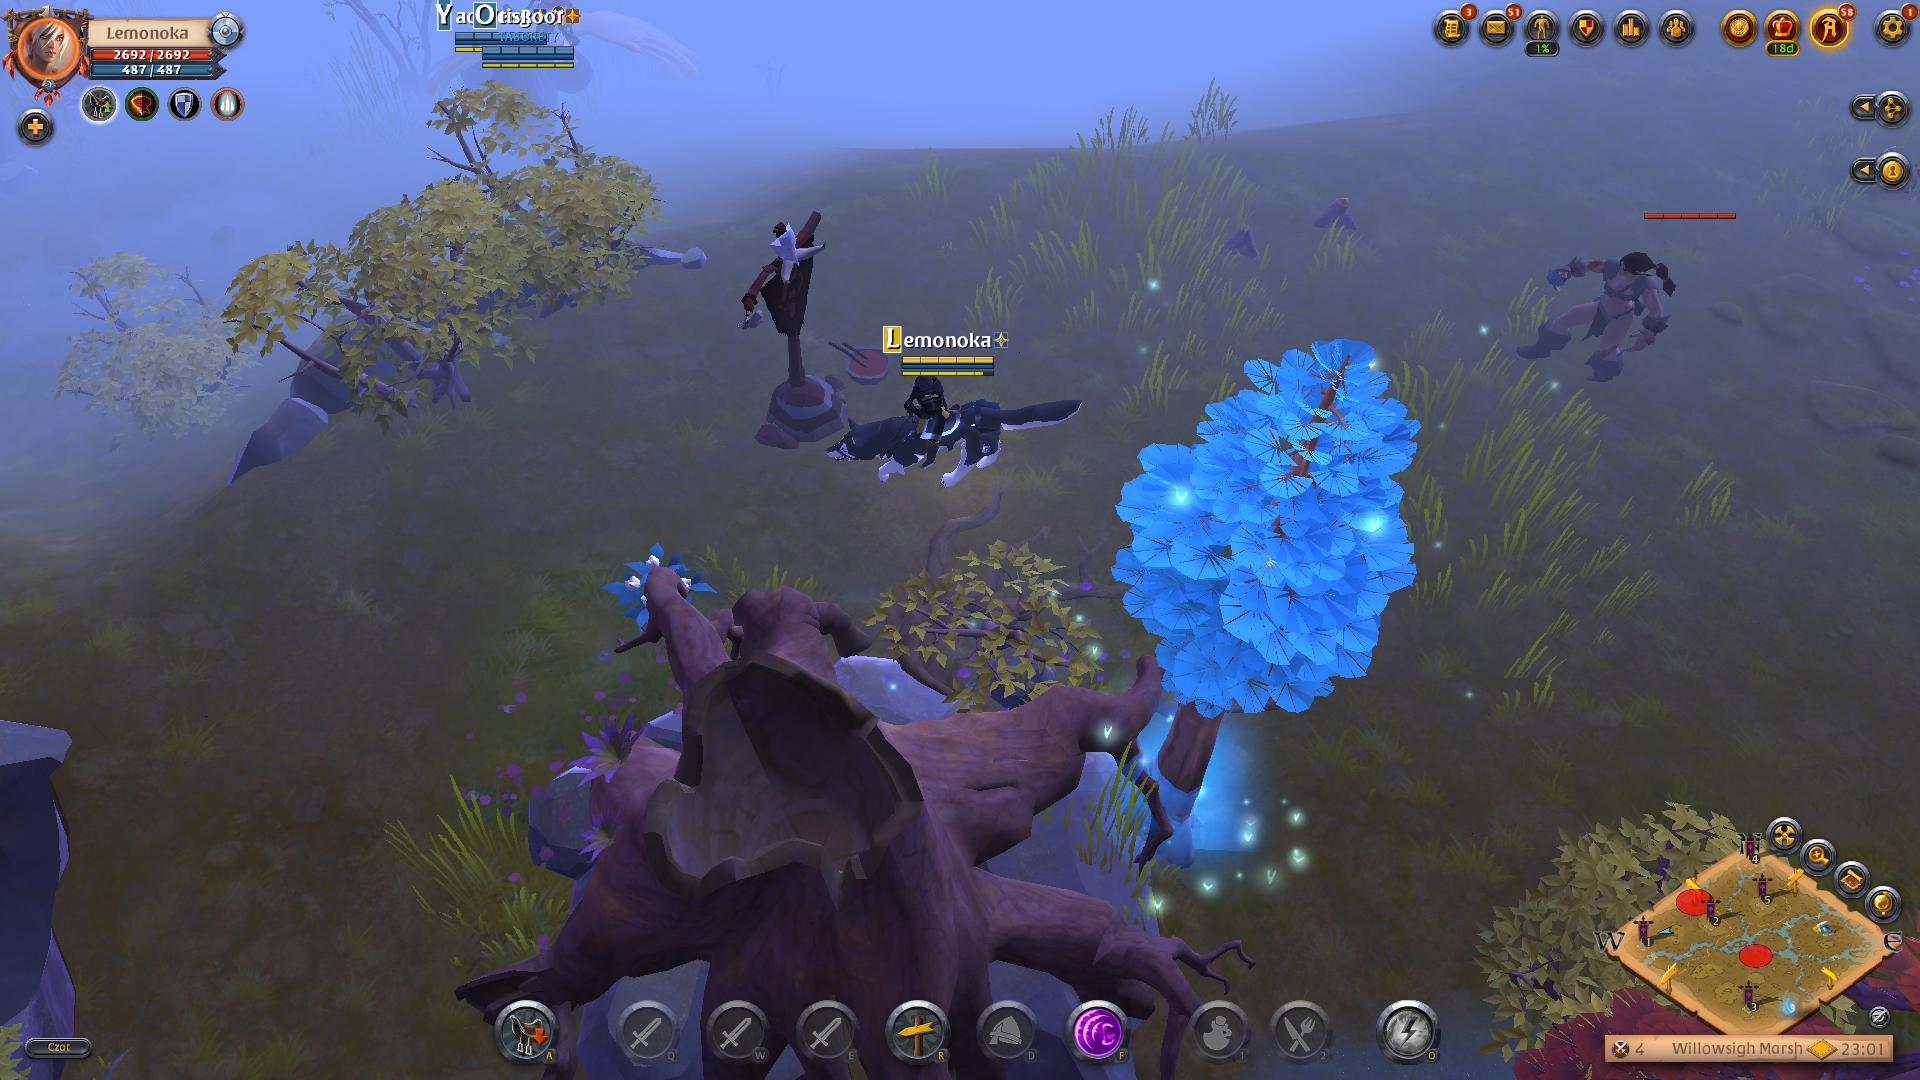wood tier 4: (1116, 330, 1423, 720)
